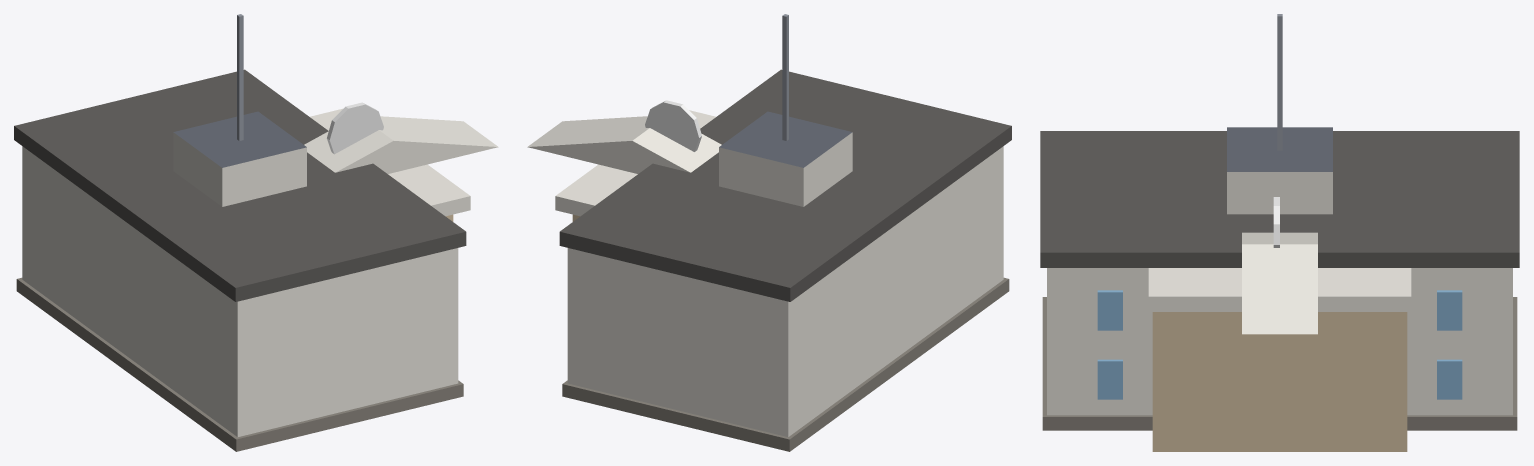
Rendered from municipalidad.obj.
3 renders of one model, left to right at view 1: azimuth 30°, elevation 25°; view 2: azimuth 150°, elevation 25°; view 3: azimuth 270°, elevation 25°, orthographic. The views are drawn at different scales.
Visible parts, largest first — view 1: municipalidad; view 2: municipalidad; view 3: municipalidad.
Boxes of the visible parts, x1,y1,x2,y2 form: municipalidad: [14, 14, 498, 451]; municipalidad: [527, 14, 1011, 451]; municipalidad: [1040, 14, 1519, 451].
Bounding box in the file's own units: 21 × 18.5 × 22.6.
